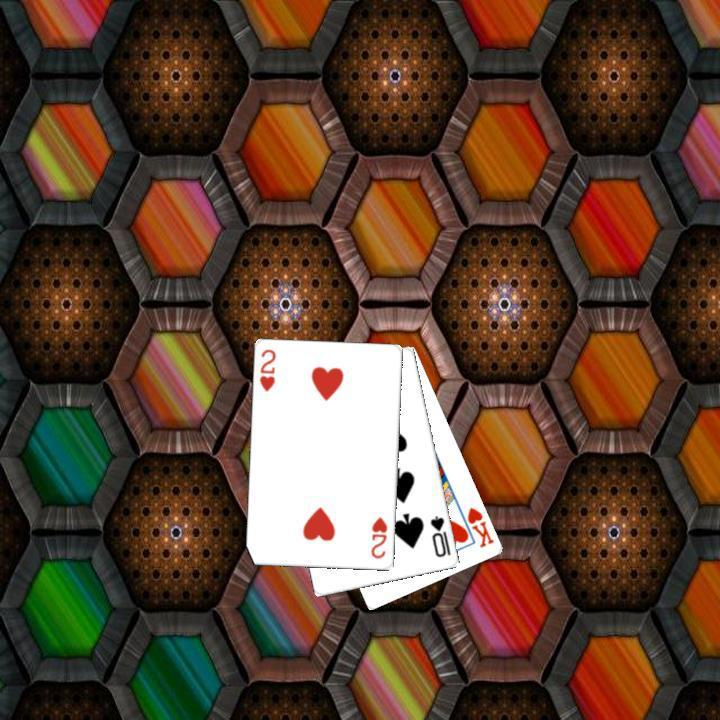10: (426, 512, 453, 559)
2: (367, 513, 390, 561), (256, 345, 278, 394)
K: (463, 503, 496, 550)
